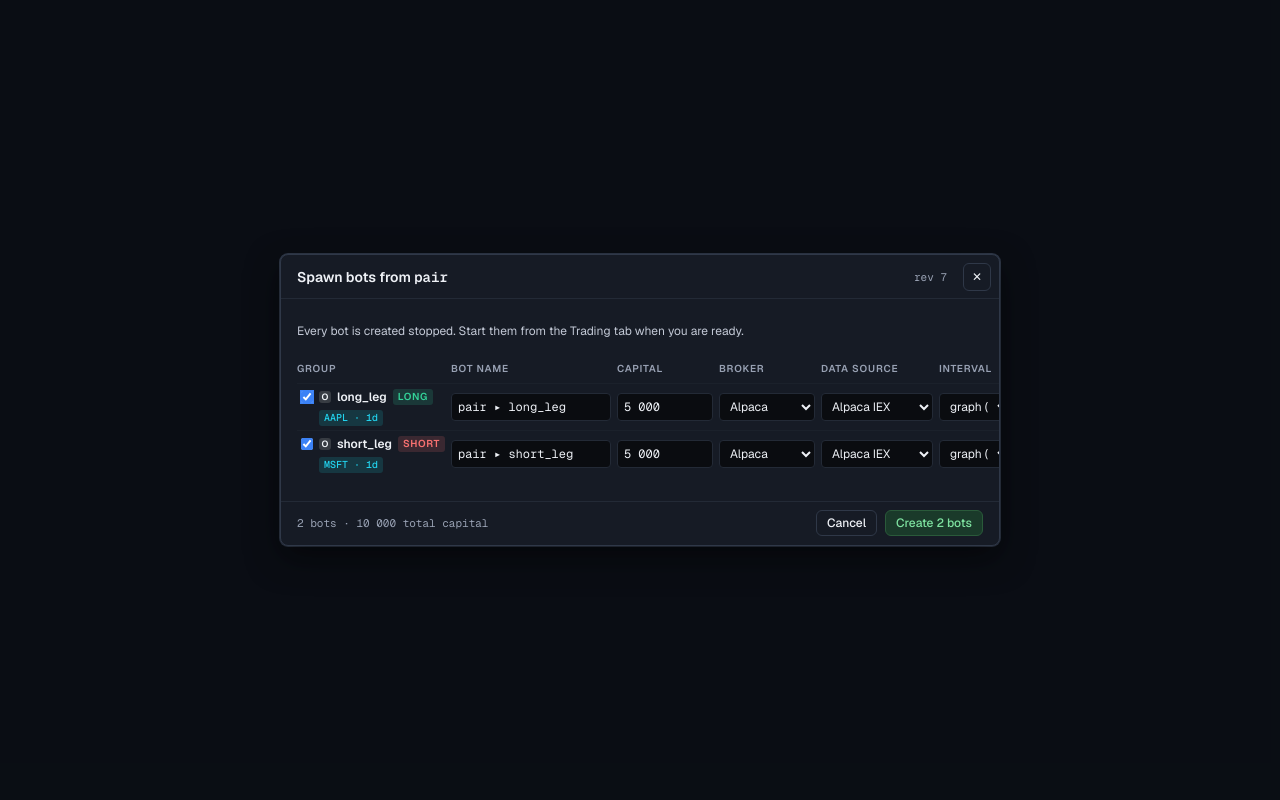
Scenario: Spawn dialog fixes › reference_unavailable reads as plain copy with Retry and marks the row
Click the button with test id "nb-dialog-primary" at (934, 523), box [885, 510, 983, 536]
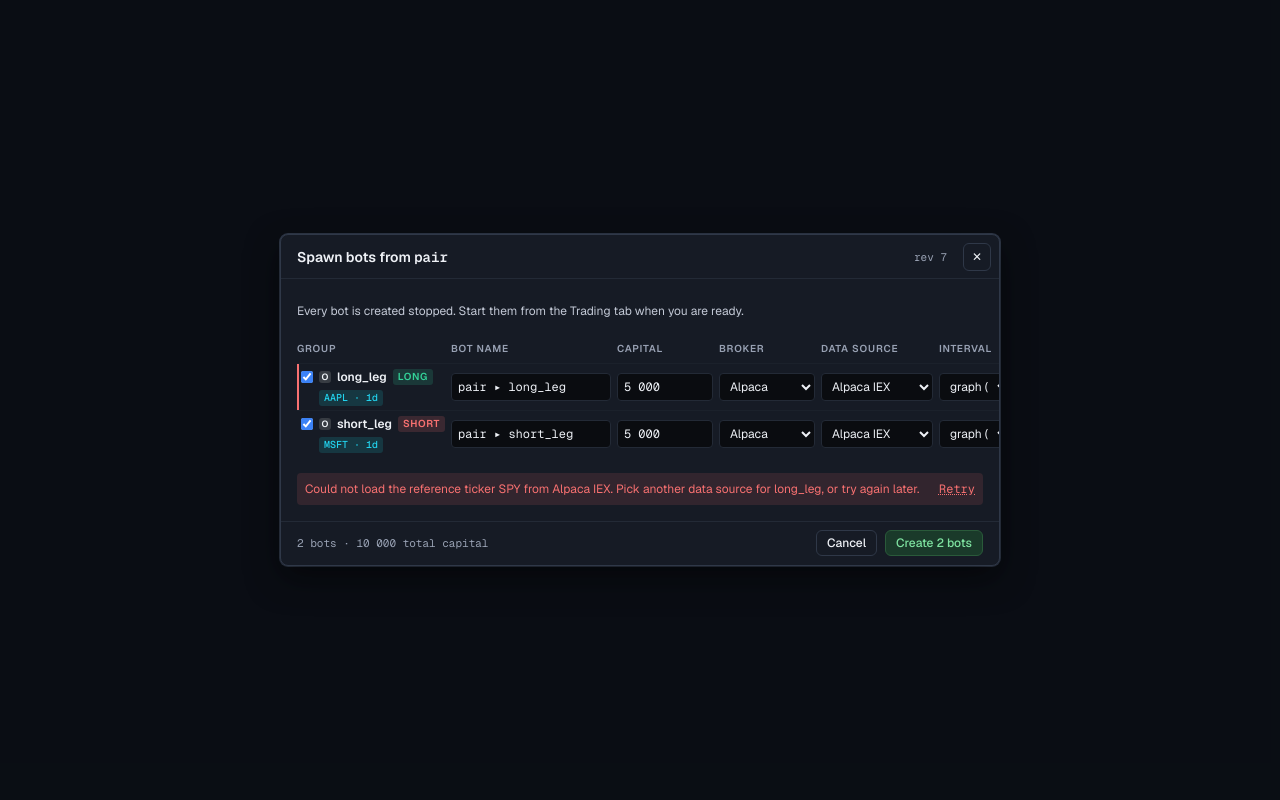
Expected: the message with test id "nb-spawn-error" shows "Could not load the reference ticker SPY from Alpaca IEX. Pick another data source for long_leg, or try again later.", [305, 481, 919, 497]
Expected: the button with test id "nb-spawn-retry" is shown, [939, 481, 975, 497]
